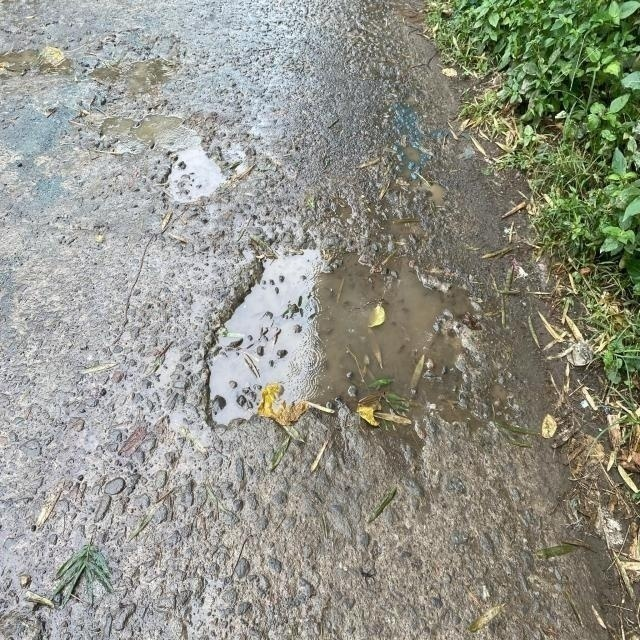pothole: (201, 213, 486, 437)
